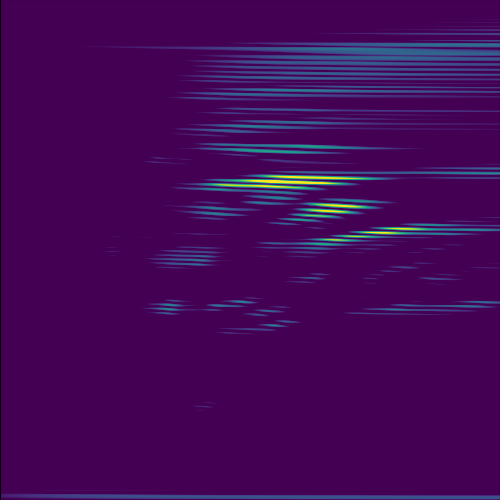semblance: (182, 168, 385, 197), (313, 222, 441, 246), (288, 197, 393, 222)
